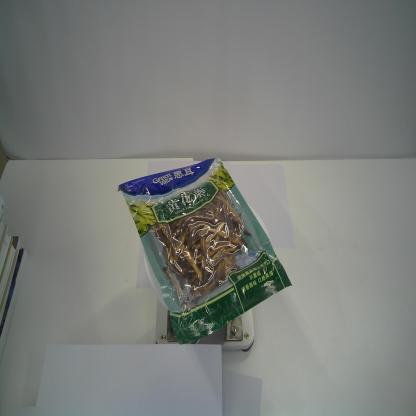Dried Food: (116, 152, 292, 346)
